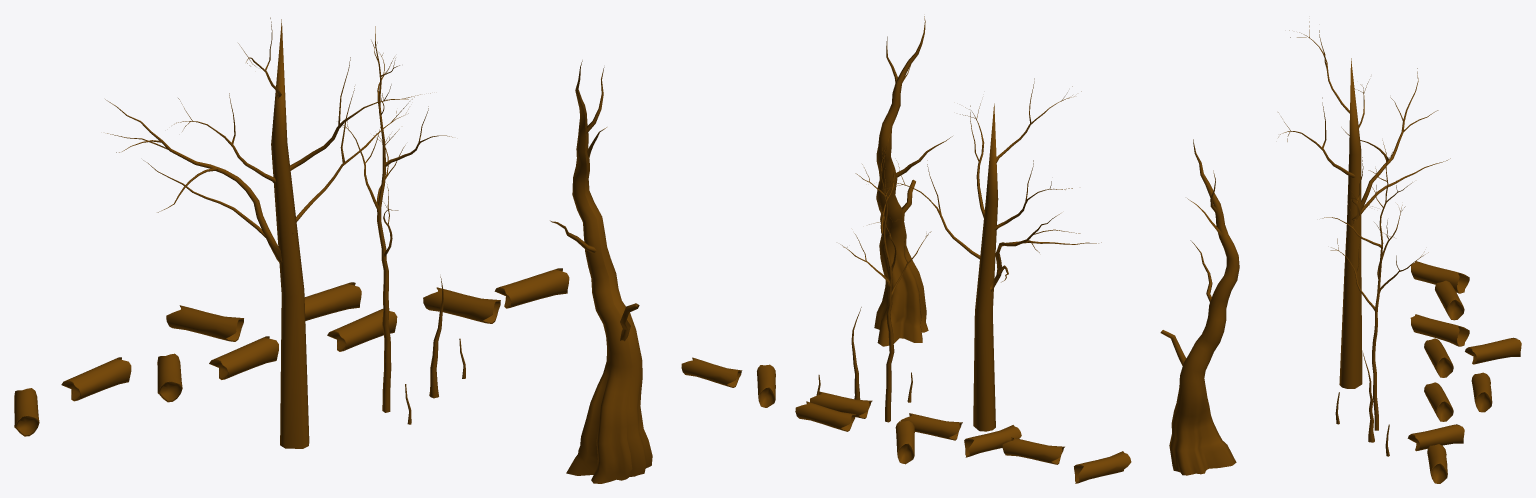
Rendered from Trees.fbx.
The picture shows the model from 3 angles, left to right: view 1: azimuth 30°, elevation 25°; view 2: azimuth 150°, elevation 25°; view 3: azimuth 270°, elevation 25°; orthographic projection. The views are drawn at different scales.
Visible parts, largest first — view 1: pasted__polySurface1609, pasted__polySurface2484, pasted__polySurface2468, pasted__polySurface32, pasted__polySurface2418, pasted__polySurface2417, pasted__polySurface2416, pasted__polySurface2419, pasted__polySurface2421, pasted__polySurface2415, pasted__polySurface2420, pasted__polySurface2422; view 2: pasted__polySurface1609, pasted__polySurface2484, pasted__polySurface2468, pasted__polySurface2416, pasted__polySurface2420, pasted__polySurface2418, pasted__polySurface2415, pasted__polySurface2422, pasted__polySurface2419, pasted__polySurface2421, pasted__polySurface32, pasted__polySurface2417; view 3: pasted__polySurface1609, pasted__polySurface2484, pasted__polySurface2468, pasted__polySurface2422, pasted__polySurface2420, pasted__polySurface32, pasted__polySurface2417, pasted__polySurface2421, pasted__polySurface2419, pasted__polySurface2416, pasted__polySurface2418, pasted__polySurface2415.
Boxes of the visible parts, x1=… form: pasted__polySurface1609: x1=550, y1=60, x2=652, y2=483; pasted__polySurface2484: x1=105, y1=17, x2=430, y2=448; pasted__polySurface2468: x1=343, y1=26, x2=452, y2=412; pasted__polySurface32: x1=166, y1=305, x2=243, y2=341; pasted__polySurface2418: x1=494, y1=268, x2=569, y2=308; pasted__polySurface2417: x1=423, y1=287, x2=500, y2=323; pasted__polySurface2416: x1=61, y1=357, x2=131, y2=401; pasted__polySurface2419: x1=209, y1=336, x2=278, y2=379; pasted__polySurface2421: x1=327, y1=309, x2=397, y2=351; pasted__polySurface2415: x1=304, y1=282, x2=361, y2=320; pasted__polySurface2420: x1=14, y1=388, x2=39, y2=436; pasted__polySurface2422: x1=157, y1=353, x2=182, y2=402; pasted__polySurface1609: x1=874, y1=16, x2=952, y2=346; pasted__polySurface2484: x1=878, y1=78, x2=1101, y2=431; pasted__polySurface2468: x1=840, y1=133, x2=931, y2=422; pasted__polySurface2416: x1=1002, y1=437, x2=1064, y2=464; pasted__polySurface2420: x1=1074, y1=451, x2=1131, y2=483; pasted__polySurface2418: x1=681, y1=357, x2=742, y2=387; pasted__polySurface2415: x1=795, y1=401, x2=855, y2=431; pasted__polySurface2422: x1=964, y1=425, x2=1021, y2=457; pasted__polySurface2419: x1=900, y1=413, x2=962, y2=440; pasted__polySurface2421: x1=810, y1=391, x2=872, y2=418; pasted__polySurface32: x1=895, y1=421, x2=914, y2=464; pasted__polySurface2417: x1=757, y1=364, x2=775, y2=407; pasted__polySurface1609: x1=1160, y1=139, x2=1239, y2=475; pasted__polySurface2484: x1=1278, y1=21, x2=1450, y2=388; pasted__polySurface2468: x1=1322, y1=140, x2=1428, y2=430; pasted__polySurface2422: x1=1410, y1=314, x2=1469, y2=346; pasted__polySurface2420: x1=1411, y1=261, x2=1469, y2=293; pasted__polySurface32: x1=1465, y1=337, x2=1521, y2=364; pasted__polySurface2417: x1=1407, y1=424, x2=1464, y2=451; pasted__polySurface2421: x1=1424, y1=382, x2=1453, y2=421; pasted__polySurface2419: x1=1424, y1=338, x2=1453, y2=377; pasted__polySurface2416: x1=1435, y1=280, x2=1464, y2=320; pasted__polySurface2418: x1=1427, y1=444, x2=1447, y2=483; pasted__polySurface2415: x1=1471, y1=372, x2=1492, y2=412.
Bounding box in the file's own units: 43.27 × 33.7 × 31.6.
